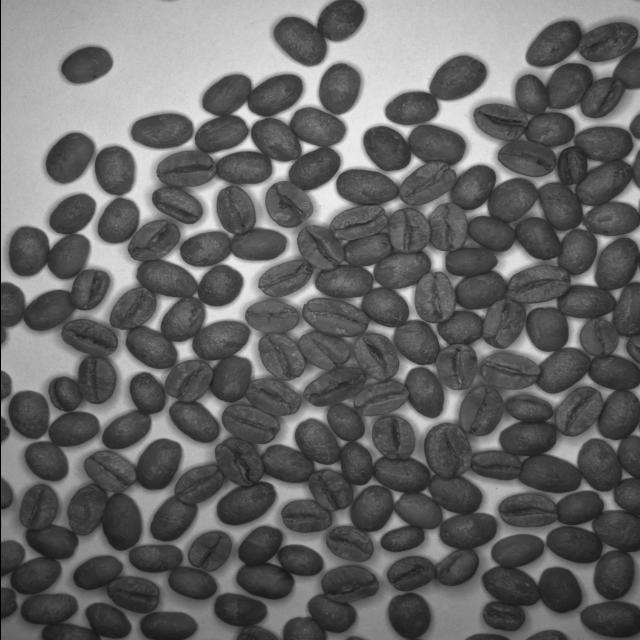good: (516, 8, 582, 87), (565, 15, 639, 75), (387, 156, 465, 212), (570, 154, 640, 212), (49, 30, 110, 96), (428, 46, 492, 108), (36, 127, 97, 191), (242, 66, 308, 124), (346, 119, 410, 178), (212, 478, 284, 530), (308, 58, 361, 128), (570, 111, 636, 166), (501, 264, 579, 310), (240, 116, 304, 172), (185, 72, 254, 123), (88, 140, 148, 198), (265, 15, 330, 68), (403, 119, 485, 161), (76, 446, 147, 494), (330, 164, 404, 210), (376, 84, 444, 134), (276, 146, 342, 197), (576, 70, 628, 134), (379, 587, 441, 640), (429, 511, 501, 556), (144, 491, 202, 546), (182, 112, 250, 158), (180, 316, 248, 362), (416, 424, 472, 479), (100, 488, 148, 552), (116, 326, 182, 372), (550, 228, 606, 282), (298, 296, 370, 338), (422, 197, 472, 257), (124, 214, 184, 264), (130, 256, 200, 298), (253, 182, 314, 230), (123, 109, 188, 154), (150, 295, 207, 346), (469, 99, 530, 146), (579, 194, 640, 241), (554, 386, 606, 441), (216, 404, 284, 446), (294, 369, 362, 411), (535, 180, 585, 237), (262, 439, 320, 488), (136, 435, 184, 494), (46, 405, 106, 452), (328, 198, 392, 242), (448, 160, 502, 212), (494, 138, 564, 178), (182, 526, 238, 576), (474, 352, 542, 393), (513, 454, 577, 497), (484, 172, 540, 221), (151, 145, 213, 189), (314, 522, 380, 563), (381, 206, 431, 260), (4, 221, 49, 281), (102, 574, 162, 619), (285, 110, 349, 152), (372, 249, 428, 297), (318, 564, 382, 606), (25, 516, 81, 564), (156, 357, 217, 401), (70, 352, 121, 404), (212, 148, 272, 192), (476, 566, 536, 610), (212, 182, 259, 238), (452, 387, 504, 437), (449, 273, 509, 316), (386, 320, 442, 366), (516, 112, 580, 152), (456, 218, 514, 262), (540, 525, 598, 569), (407, 272, 456, 324), (60, 485, 109, 537), (167, 398, 220, 446), (588, 548, 636, 601), (3, 389, 51, 442), (379, 551, 434, 597), (54, 320, 124, 356), (97, 407, 153, 452), (94, 195, 144, 245), (348, 482, 398, 532), (430, 544, 481, 593), (107, 286, 159, 334), (23, 288, 75, 336), (212, 439, 264, 487), (348, 336, 401, 383), (532, 348, 586, 394), (574, 439, 620, 493), (234, 380, 303, 416), (534, 566, 580, 620), (172, 462, 226, 508), (10, 550, 64, 596), (254, 336, 309, 381), (402, 366, 447, 421), (550, 284, 618, 320), (370, 411, 418, 462), (230, 564, 298, 600), (48, 190, 95, 242), (254, 256, 312, 298), (350, 378, 408, 420), (313, 263, 377, 301), (208, 357, 258, 405), (420, 478, 483, 516), (546, 66, 598, 112), (18, 440, 70, 486), (294, 329, 352, 370), (237, 299, 303, 335), (297, 220, 346, 268), (514, 66, 558, 119), (193, 266, 246, 310), (548, 135, 588, 193), (592, 393, 638, 443), (46, 230, 91, 281), (274, 498, 334, 536), (148, 188, 202, 230), (358, 287, 412, 329), (492, 529, 546, 571), (498, 491, 556, 530), (317, 1, 366, 47), (209, 590, 268, 628), (182, 230, 232, 274), (292, 420, 342, 464), (74, 551, 124, 595), (21, 590, 78, 628), (434, 344, 478, 393), (137, 606, 200, 640), (127, 540, 183, 578), (15, 483, 58, 532), (579, 357, 639, 392), (498, 423, 558, 458), (234, 528, 286, 568), (38, 376, 90, 416), (432, 308, 480, 351), (123, 371, 166, 419), (317, 401, 367, 442), (225, 230, 289, 262), (66, 267, 112, 311), (308, 467, 351, 514), (377, 524, 431, 560), (469, 448, 526, 482), (528, 306, 568, 354), (170, 562, 220, 600), (397, 491, 443, 532), (273, 543, 325, 579), (556, 492, 602, 530), (578, 318, 617, 362), (498, 396, 554, 426), (341, 235, 392, 267), (338, 441, 374, 484)
